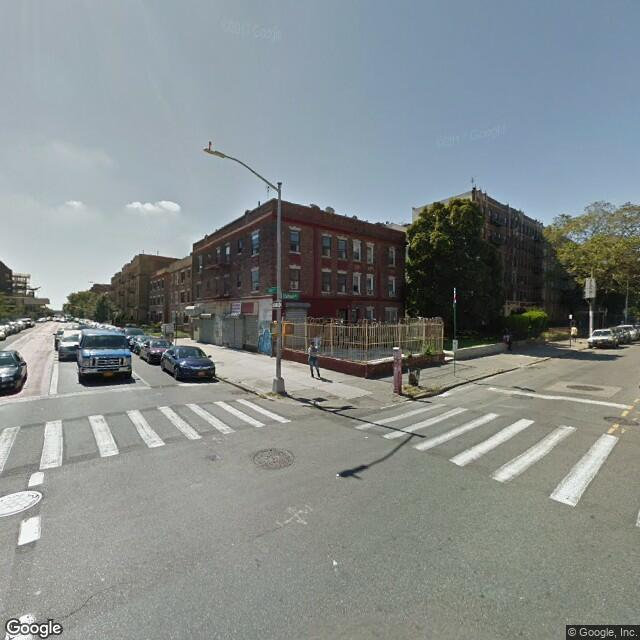litter: (331, 559, 340, 568), (334, 471, 341, 479)
